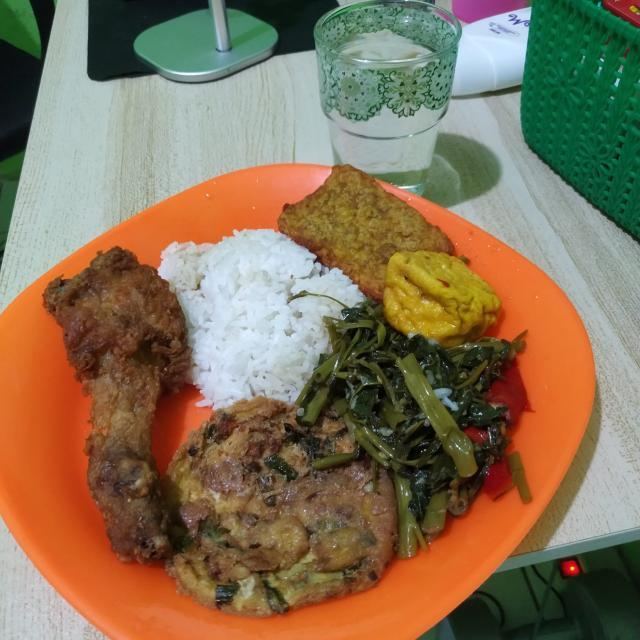ayam_goreng: (32, 186, 234, 552)
nasi_putih: (152, 166, 391, 422)
telur_ayam_dadar: (152, 354, 412, 616)
